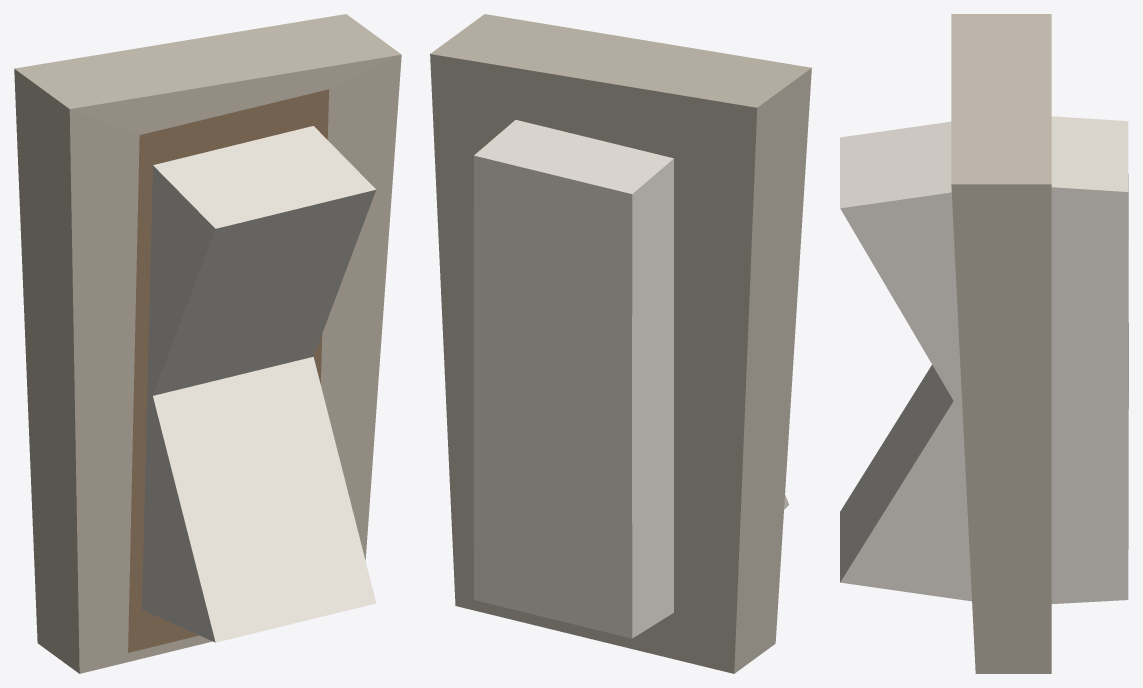
File: Blind_Switch.glb
The picture shows the model from 3 angles, left to right: view 1: azimuth 30°, elevation 25°; view 2: azimuth 150°, elevation 25°; view 3: azimuth 270°, elevation 25°; orthographic projection. The views are drawn at different scales.
Visible parts, largest first — view 1: Switch_Body, Switch_Button; view 2: Switch_Body, Switch_Button; view 3: Switch_Button, Switch_Body.
Boxes of the visible parts, box(x1,y1,x2,y2) form: Switch_Body: box(14, 14, 401, 673); Switch_Button: box(142, 126, 376, 642); Switch_Body: box(430, 14, 811, 673); Switch_Button: box(473, 120, 789, 638); Switch_Button: box(840, 116, 1128, 603); Switch_Body: box(951, 14, 1051, 673).
Size of the model in its own units: 0.0497 by 0.083 by 0.0414.
